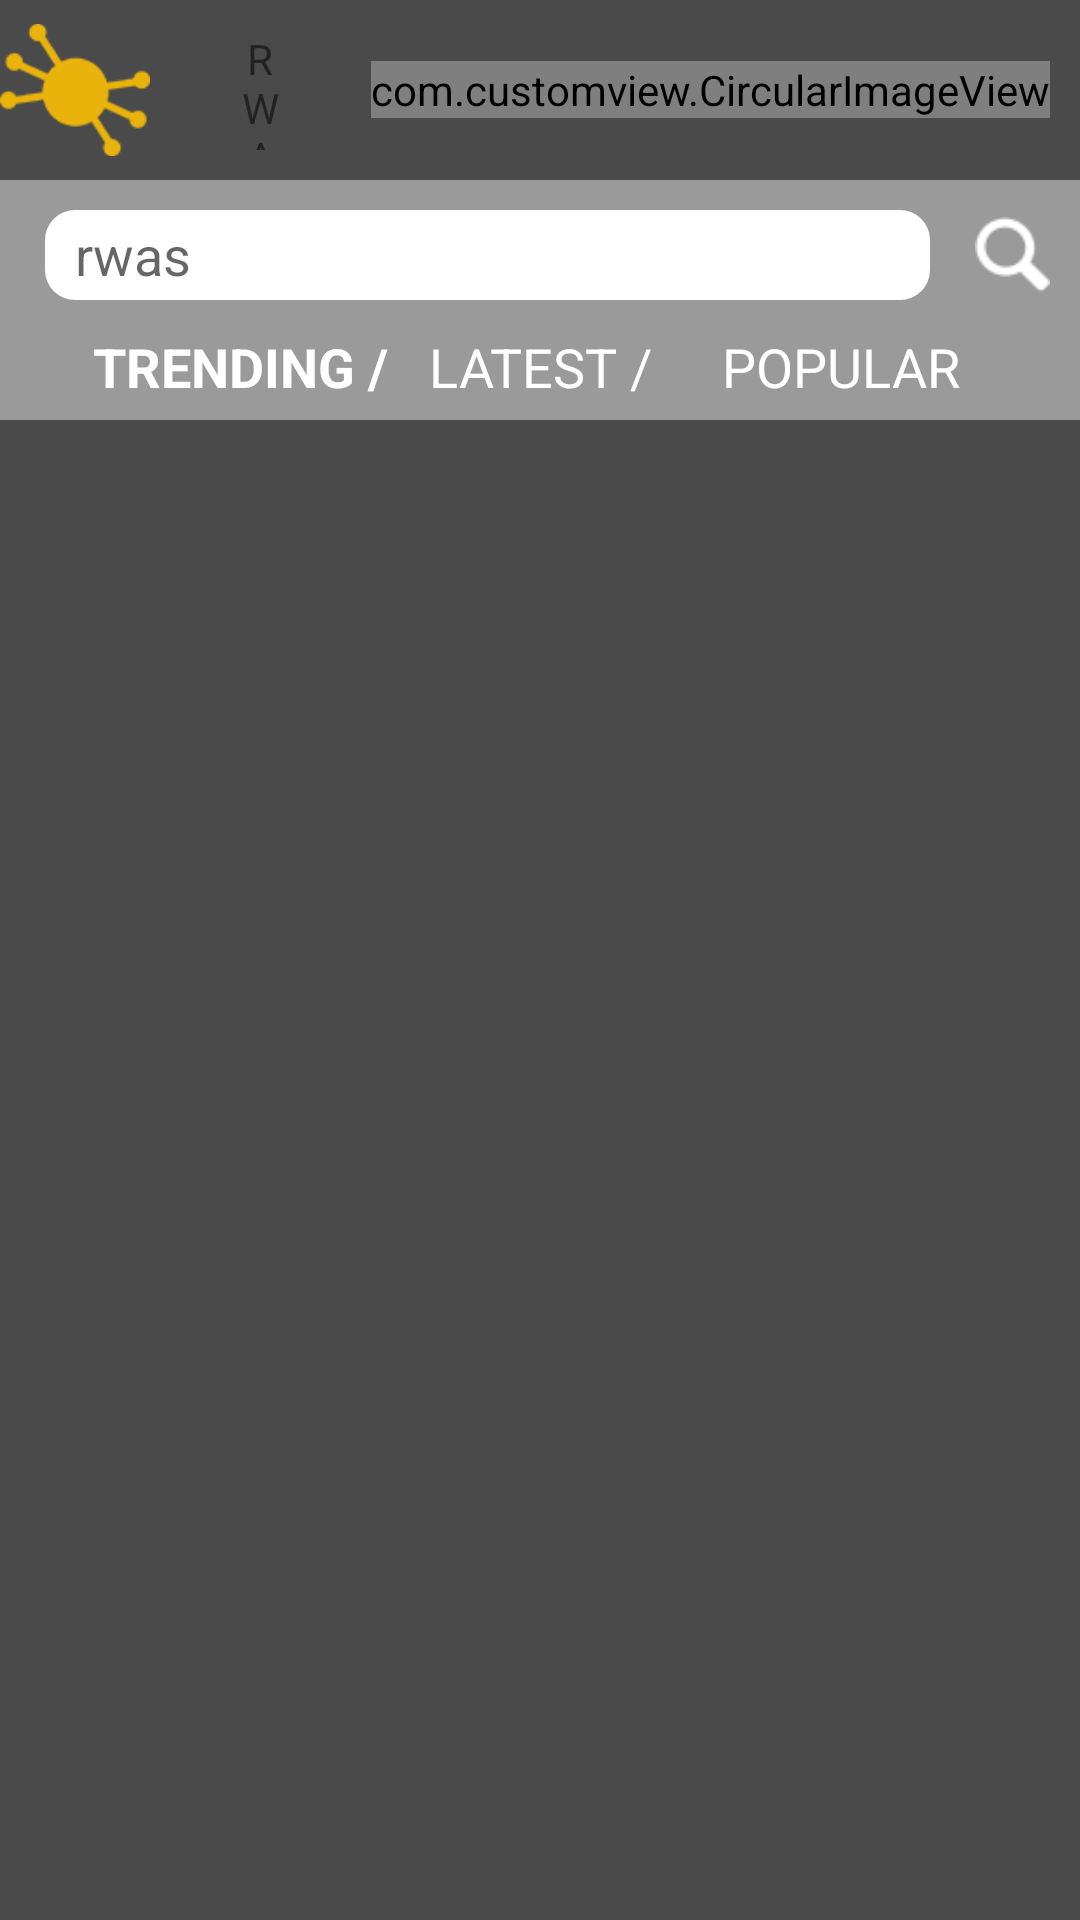

Screen size 1080 × 1920. Icon name, then its center in pixels as [x,y]:
search: [1012,254]
